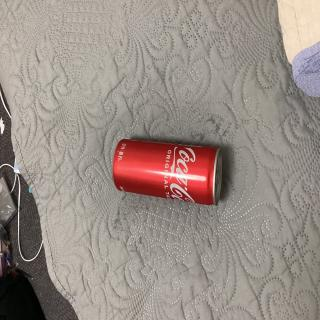cocacola: (111, 133, 227, 212)
